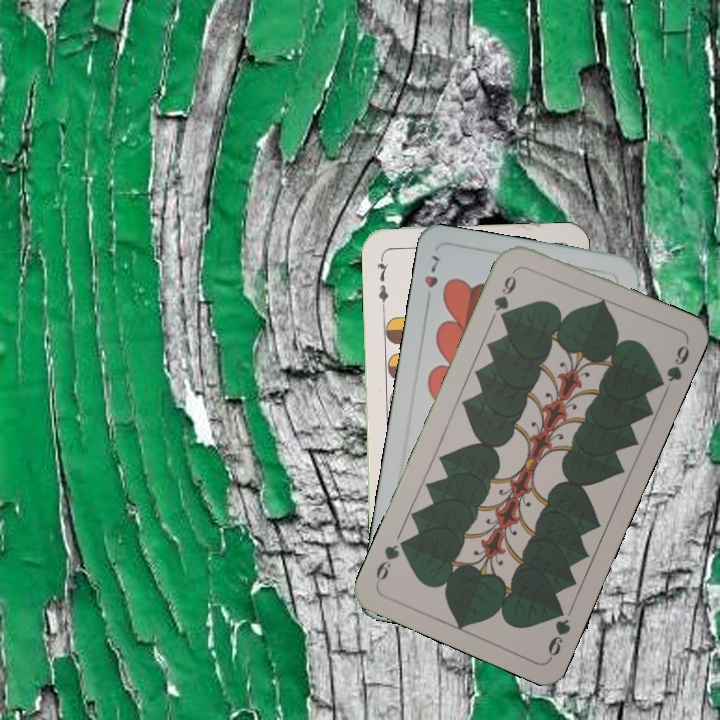E7: (372, 252, 391, 311)
G9: (543, 601, 574, 661), (489, 271, 519, 324)
H7: (420, 251, 442, 308)
